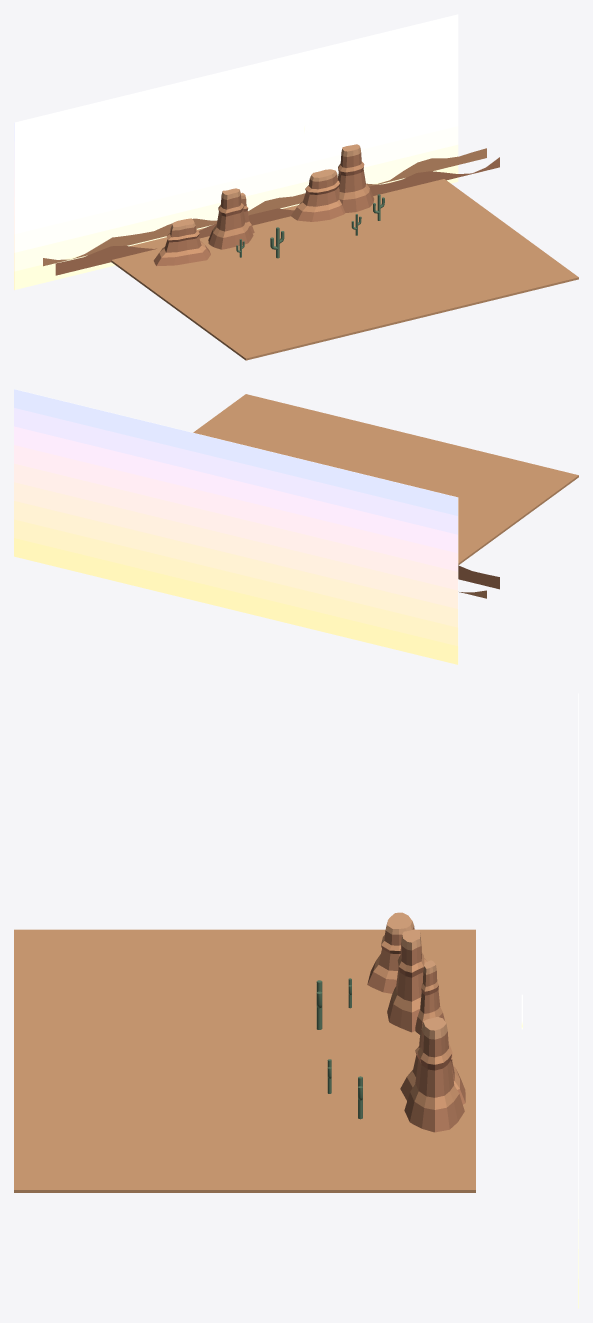
The model's file is venue-desert.fbx.
3 views of the same model, one above another, from view 1: azimuth 30°, elevation 25°; view 2: azimuth 150°, elevation 25°; view 3: azimuth 270°, elevation 25° (orthographic). The views are drawn at different scales.
Visible parts, largest first — view 1: VenueDesert; view 2: VenueDesert; view 3: VenueDesert.
Part boxes in pixels (x1,y1,x2,y2): VenueDesert: (14,14,578,360); VenueDesert: (14,389,578,664); VenueDesert: (14,693,578,1308).
Size of the model in its own units: 32 by 22.01 by 11.53.
